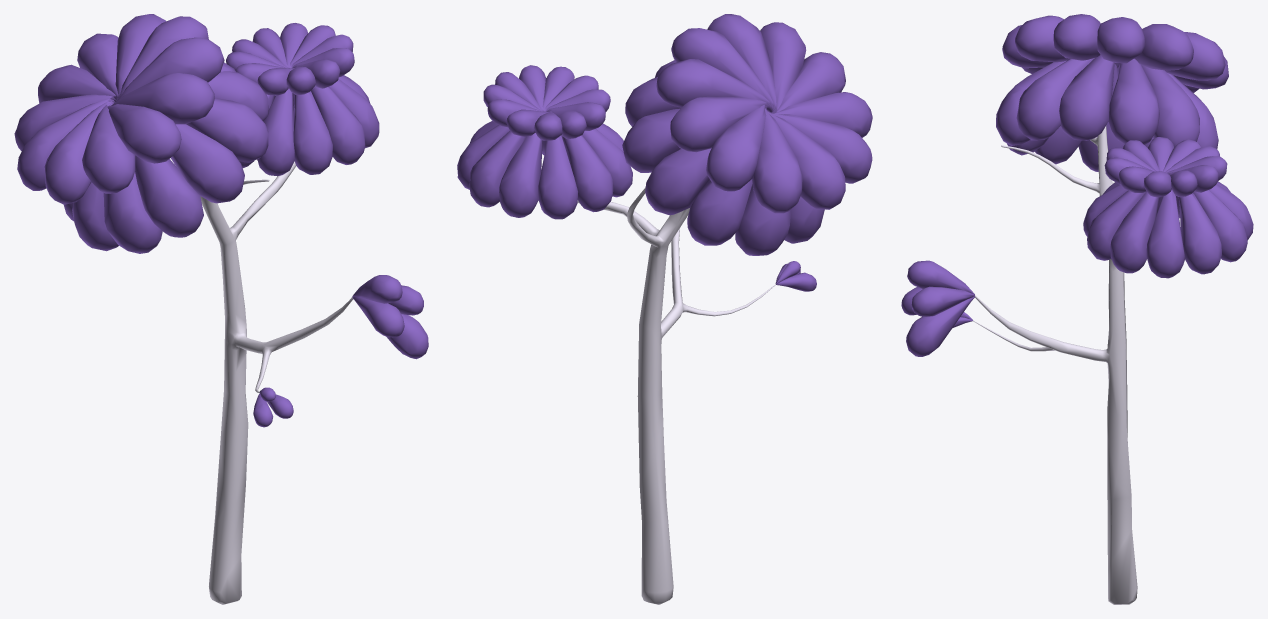
File: Eggplantweide_2.FBX
3 renders of one model, left to right at view 1: azimuth 30°, elevation 25°; view 2: azimuth 150°, elevation 25°; view 3: azimuth 270°, elevation 25°, orthographic. The views are drawn at different scales.
Parts seen in each view (by area): view 1: BaumstammNummer2, Box165, Box166, Box185, Box167, Box184, Box183, Box182, Box175, Box186, Box143, Box181 (+23 smaller); view 2: BaumstammNummer2, Box180, Box179, Box178, Box171, Box177, Box181, Box172, Box176, Box182, Box149, Box150 (+23 smaller); view 3: BaumstammNummer2, Box168, Box169, Box167, Box170, Box145, Box147, Box146, Box177, Box176, Box186, Box148 (+23 smaller).
Boxes of the visible parts, x1,y1,x2,y2 form: BaumstammNummer2: [200, 159, 353, 604]; Box165: [135, 155, 203, 237]; Box166: [171, 124, 244, 203]; Box185: [111, 73, 214, 124]; Box167: [186, 98, 268, 162]; Box184: [107, 104, 181, 163]; Box183: [82, 104, 135, 193]; Box182: [44, 102, 112, 204]; Box175: [103, 172, 162, 253]; Box186: [116, 37, 224, 101]; Box143: [293, 91, 332, 174]; Box181: [17, 99, 113, 190]; BaumstammNummer2: [577, 187, 775, 604]; Box180: [752, 108, 802, 213]; Box179: [706, 105, 766, 191]; Box178: [670, 96, 767, 152]; Box171: [645, 148, 711, 215]; Box177: [656, 59, 769, 109]; Box181: [768, 111, 845, 209]; Box172: [687, 179, 752, 245]; Box176: [671, 28, 773, 110]; Box182: [771, 112, 872, 183]; Box149: [499, 133, 542, 217]; Box150: [538, 135, 577, 219]; BaumstammNummer2: [973, 125, 1137, 604]; Box168: [1059, 55, 1114, 140]; Box169: [1108, 58, 1159, 144]; Box167: [1016, 58, 1094, 140]; Box170: [1141, 65, 1199, 147]; Box145: [1110, 191, 1159, 273]; Box147: [1178, 193, 1221, 274]; Box146: [1146, 189, 1185, 278]; Box177: [1134, 24, 1193, 70]; Box176: [1097, 17, 1145, 63]; Box186: [1053, 14, 1100, 60]; Box148: [1193, 190, 1247, 262].
Size of the model in its own units: 139 by 123 by 215.
